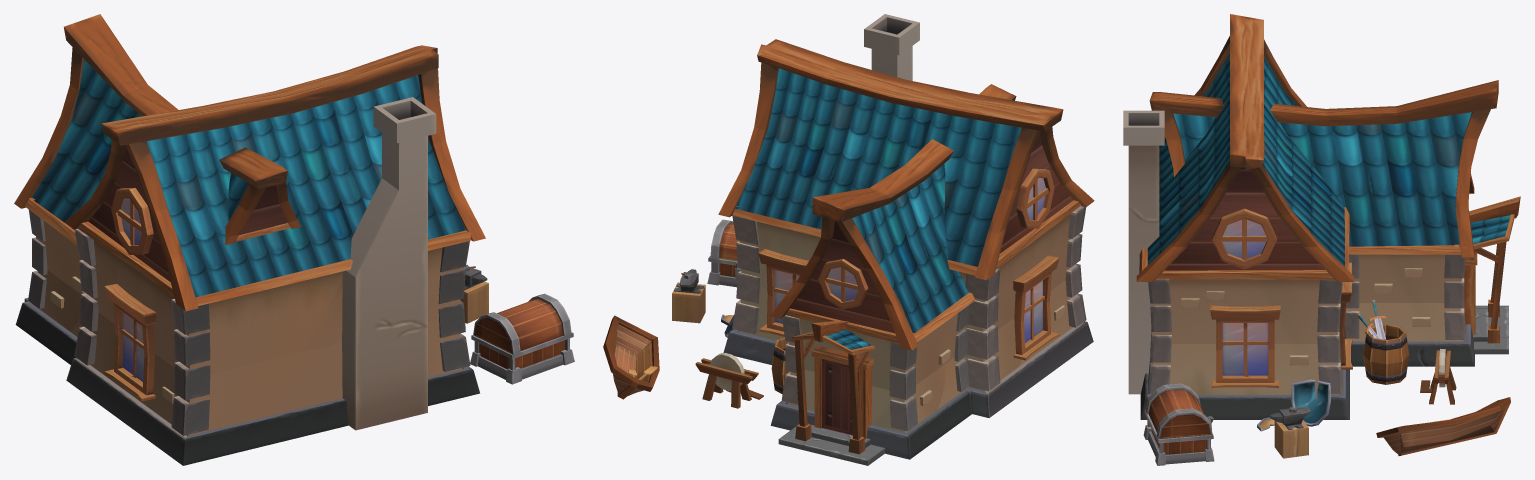
Rendered from House.fbx.
3 renders of one model, left to right at view 1: azimuth 30°, elevation 25°; view 2: azimuth 150°, elevation 25°; view 3: azimuth 270°, elevation 25°, orthographic. The views are drawn at different scales.
Parts seen in each view (by area): view 1: House; view 2: House; view 3: House.
Part boxes in pixels (x1=…): House: x1=14, y1=14, x2=574, y2=465; House: x1=603, y1=14, x2=1094, y2=465; House: x1=1123, y1=14, x2=1520, y2=465.
Bounding box in the file's own units: 12.64 × 8.74 × 11.64.
1 material, 1 textured.
